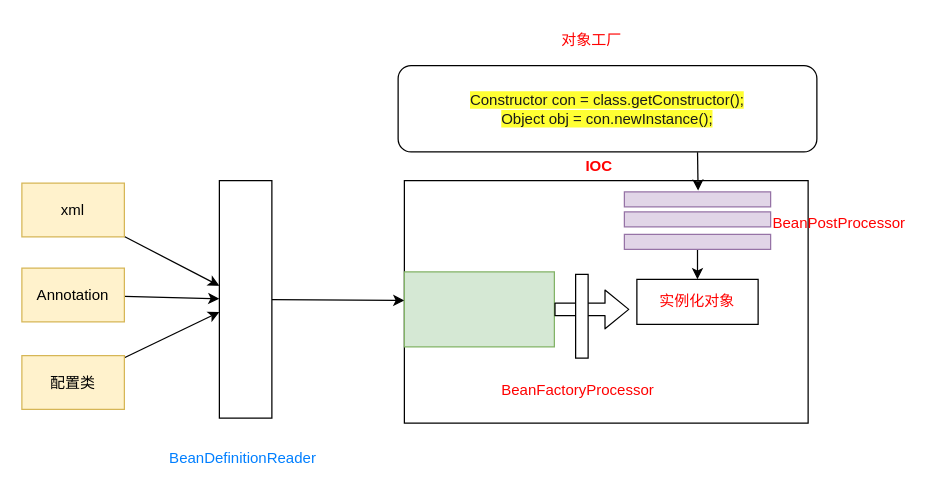
Some shapes in this 928 by 498 pixel diagram are drawn without their labels. The centre of each missing label's shape, as x and y in pixels:
"BeanDefinition" goes at (478,309).
"抽象" goes at (245,298).
